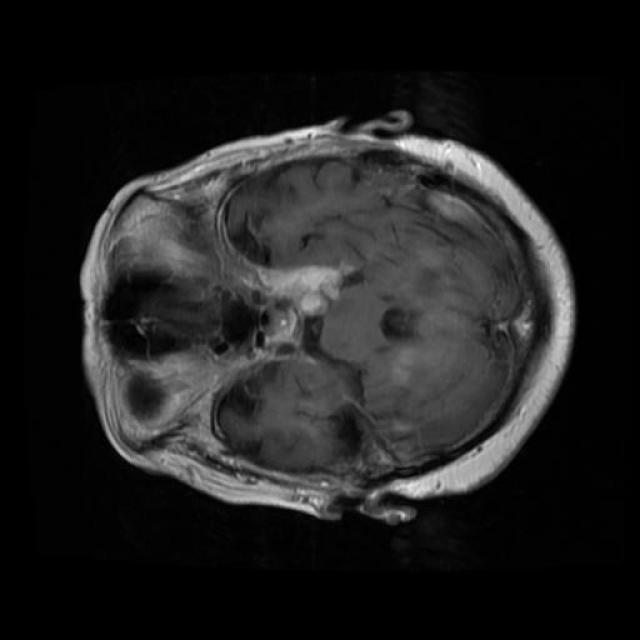Meningioma: (258, 265, 353, 316)
